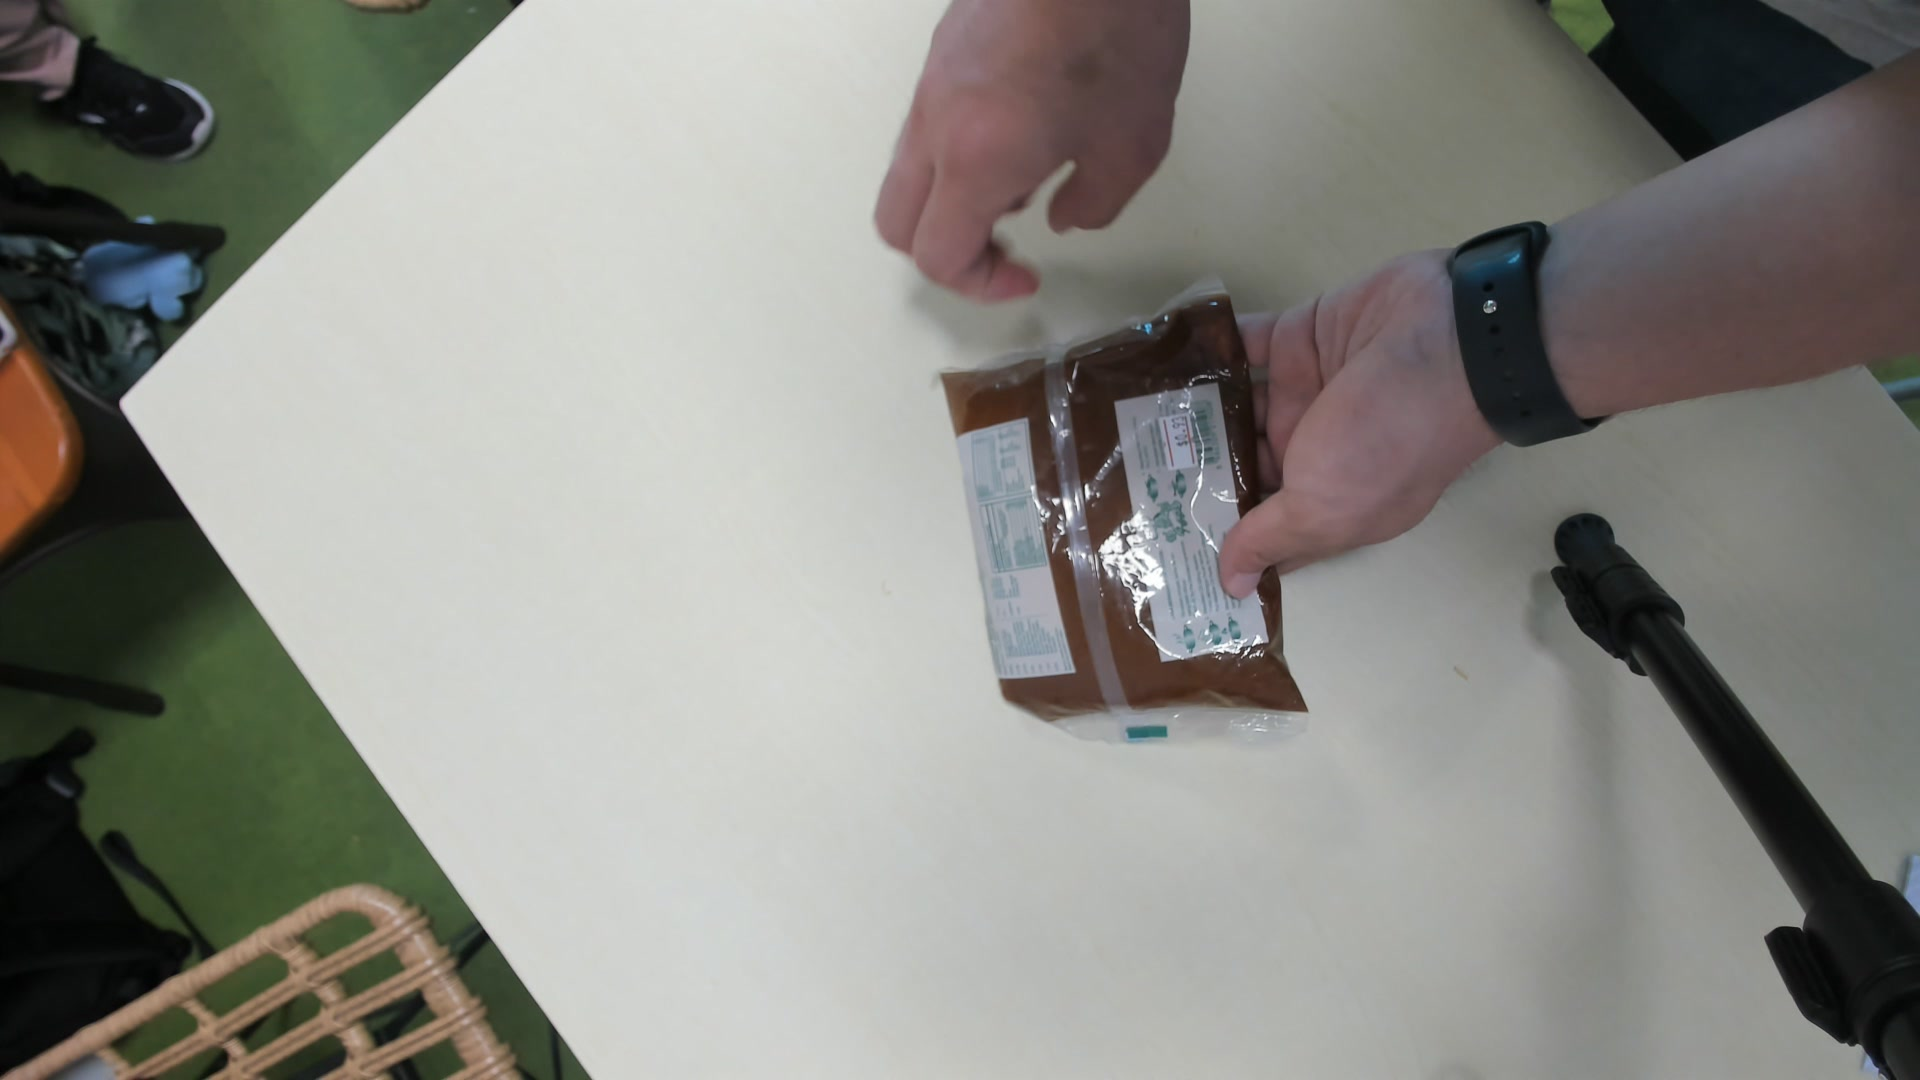OtherSauceDressingSoupbasePaste_500-599g_Halal_NonHealthy: (951, 278, 1308, 753)
